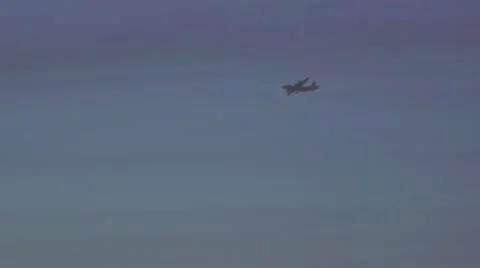Plane: (263, 70, 337, 104)
